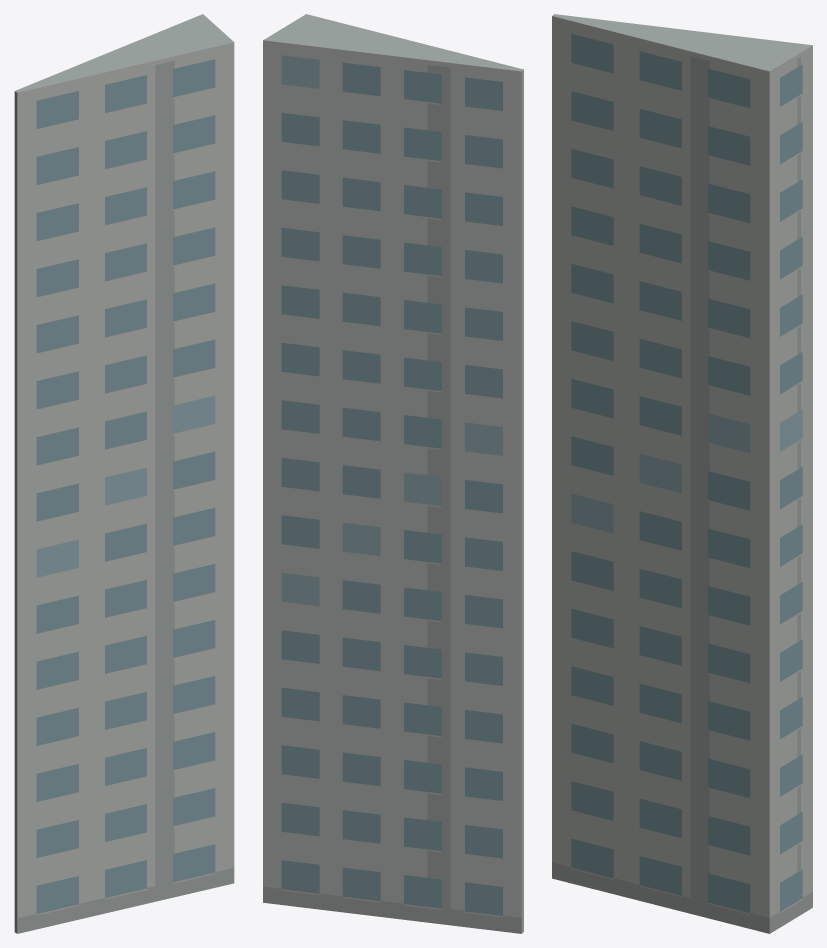
The model's file is survey-upis-32548898.glb.
3 views of the same model, side by side, from view 1: azimuth 30°, elevation 25°; view 2: azimuth 150°, elevation 25°; view 3: azimuth 330°, elevation 25° (orthographic). The views are drawn at different scales.
Parts seen in each view (by area): view 1: survey-upis-32548898.tmp; view 2: survey-upis-32548898.tmp; view 3: survey-upis-32548898.tmp.
Boxes of the visible parts, x1,y1,x2,y2 form: survey-upis-32548898.tmp: (14,14,234,933); survey-upis-32548898.tmp: (263,14,523,933); survey-upis-32548898.tmp: (552,14,812,933).
Size of the model in its own units: 12.55 by 45.75 by 3.64.
